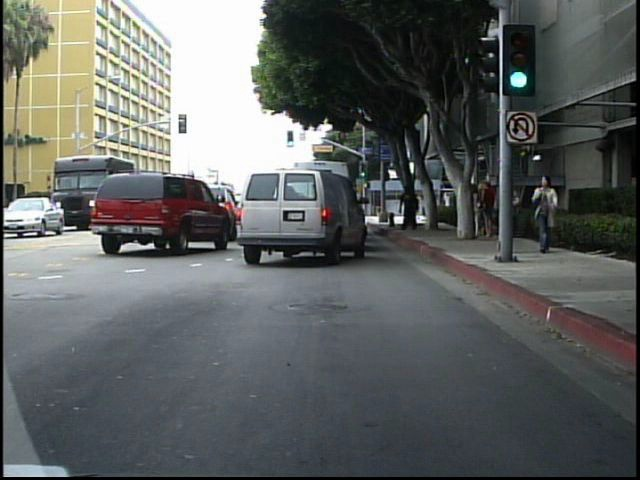person: (530, 171, 563, 260), (505, 174, 527, 258), (482, 172, 504, 243), (465, 176, 487, 246), (400, 181, 422, 236), (413, 185, 427, 221)
